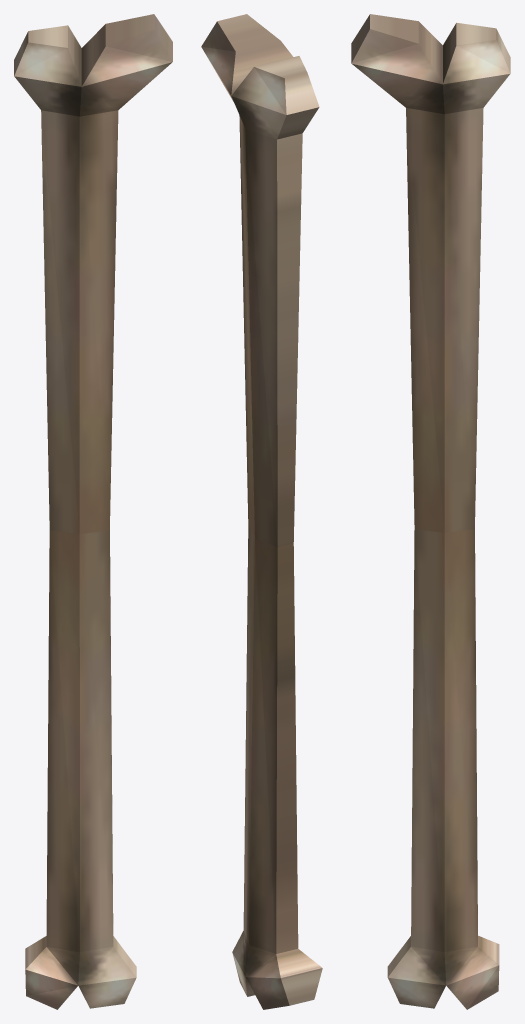
File: stst37.dae
3 renders of one model, left to right at view 1: azimuth 90°, elevation 25°; view 2: azimuth 210°, elevation 25°; view 3: azimuth 270°, elevation 25°, orthographic. The views are drawn at different scales.
Parts seen in each view (by area): view 1: bone; view 2: bone; view 3: bone.
Part boxes in pixels (x1,y1,x2,y2): bone: [14, 14, 172, 1009]; bone: [201, 14, 322, 1009]; bone: [351, 14, 510, 1009].
Bounding box in the file's own units: 0.0558 × 0.0962 × 0.6544.
1 material, 1 textured.
